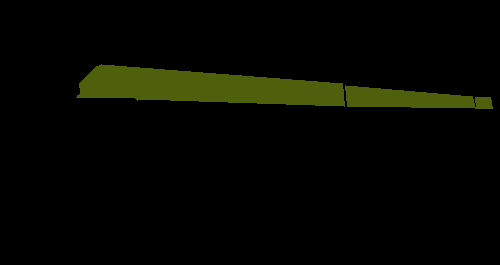Train: (76, 64, 492, 109)
